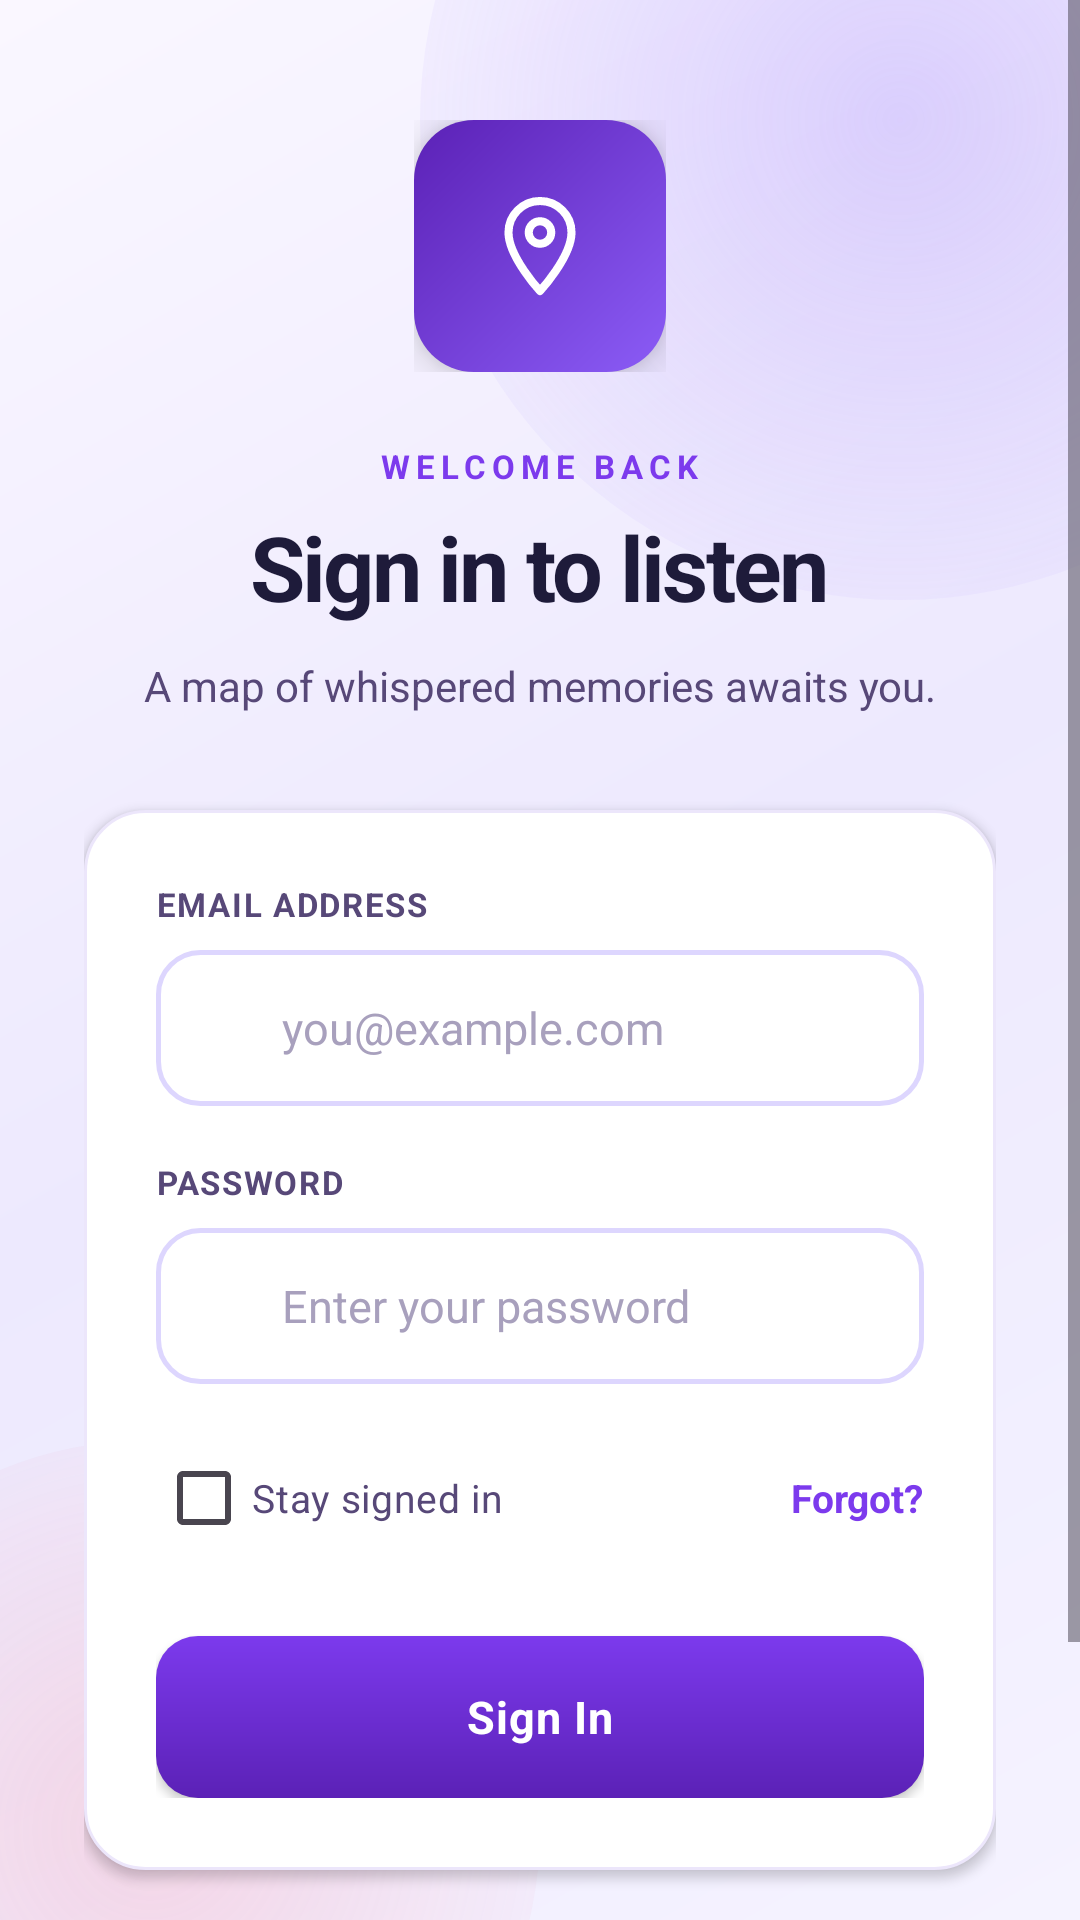

Icons on this 1080×1920 Android screen, each with the point to tap as point (x, y):
pin: point (540, 246)
